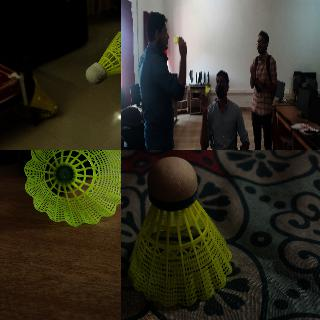shuttlecock: (128, 157, 232, 307), (25, 150, 120, 226), (85, 29, 120, 84), (205, 86, 210, 96)
